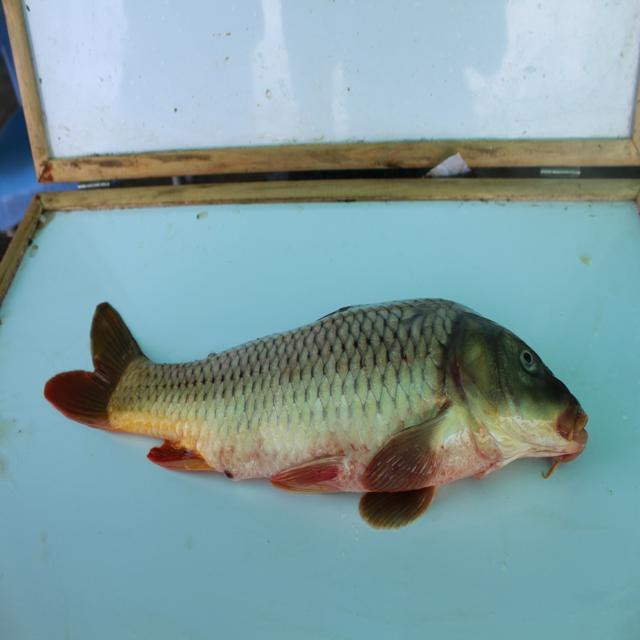CommonCarp: (31, 284, 604, 540)
